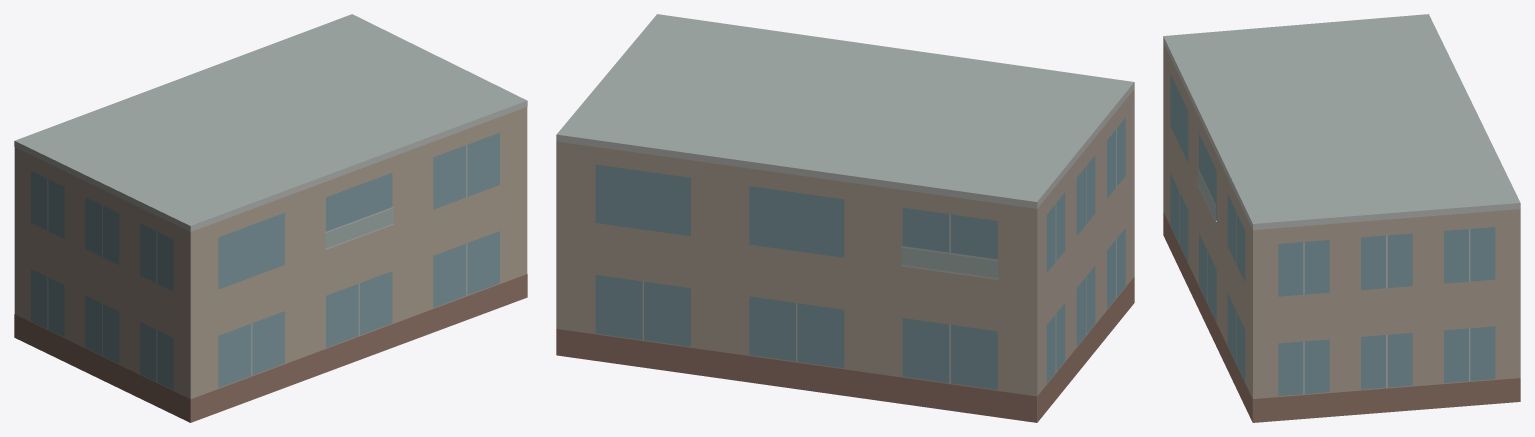
Rendered from survey-upis-32619554.glb.
The picture shows the model from 3 angles, left to right: view 1: azimuth 30°, elevation 25°; view 2: azimuth 150°, elevation 25°; view 3: azimuth 270°, elevation 25°; orthographic projection. The views are drawn at different scales.
Visible parts, largest first — view 1: survey-upis-32619554.tmp; view 2: survey-upis-32619554.tmp; view 3: survey-upis-32619554.tmp.
Part boxes in pixels (box(x1,y1,x2,y2)): survey-upis-32619554.tmp: box(14, 14, 527, 422); survey-upis-32619554.tmp: box(556, 14, 1134, 422); survey-upis-32619554.tmp: box(1163, 14, 1520, 422).
Size of the model in its own units: 17.9 by 7.9 by 12.88.
